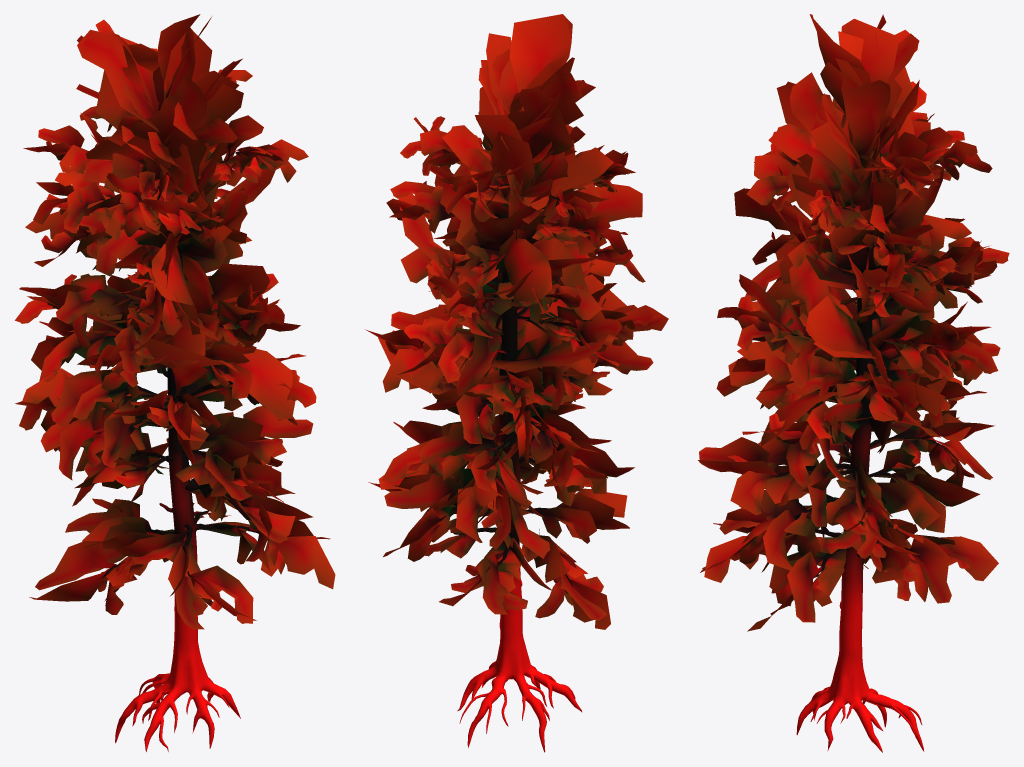
Rendered from JuniperGCATA_G.fbx.
The picture shows the model from 3 angles, left to right: view 1: azimuth 30°, elevation 25°; view 2: azimuth 150°, elevation 25°; view 3: azimuth 270°, elevation 25°; orthographic projection. The views are drawn at different scales.
Parts seen in each view (by area): view 1: JuniperGCATAG_Leaves_LOD0, JuniperGCATAG_Bark_LOD0; view 2: JuniperGCATAG_Leaves_LOD0, JuniperGCATAG_Bark_LOD0; view 3: JuniperGCATAG_Leaves_LOD0, JuniperGCATAG_Bark_LOD0.
Part boxes in pixels (x1,y1,x2,y2): JuniperGCATAG_Leaves_LOD0: (15,14,335,629); JuniperGCATAG_Bark_LOD0: (76,108,268,751); JuniperGCATAG_Leaves_LOD0: (365,14,668,629); JuniperGCATAG_Bark_LOD0: (447,152,604,752); JuniperGCATAG_Leaves_LOD0: (698,14,1009,631); JuniperGCATAG_Bark_LOD0: (771,155,942,752).
Size of what is drawn, in the model's own units: 8.93 by 23.73 by 9.29.
